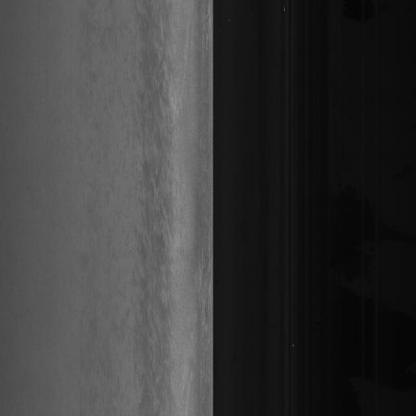silk_spot: (136, 146, 181, 242)
